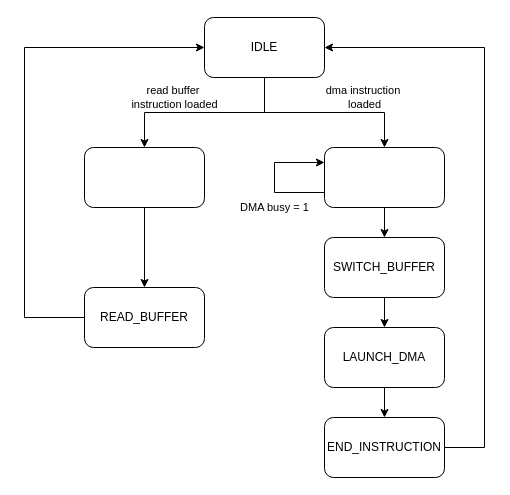
Image size: 510x495. Some labels were removed from this diagram. The shapes that lost their labels are listed below. From the top down, each one's centre as x and y in pixels, then its label:
(144,177): ASK_BUFFER
(384,177): WAIT_FOR_DMA
